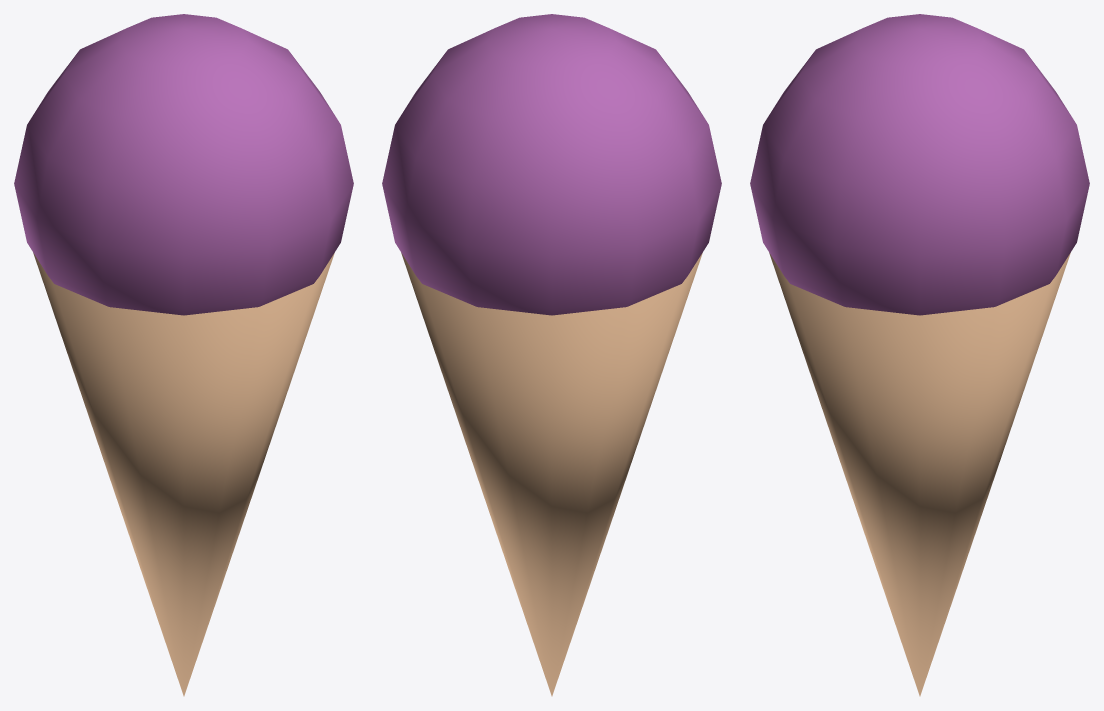
The model's file is food_ice_cream.glb.
3 views of the same model, side by side, from view 1: azimuth 30°, elevation 25°; view 2: azimuth 150°, elevation 25°; view 3: azimuth 270°, elevation 25° (orthographic).
Parts seen in each view (by area): view 1: food_ice_cream_scoop, food_ice_cream; view 2: food_ice_cream_scoop, food_ice_cream; view 3: food_ice_cream_scoop, food_ice_cream.
Boxes of the visible parts, x1=… form: food_ice_cream_scoop: x1=14, y1=14, x2=353, y2=315; food_ice_cream: x1=33, y1=253, x2=334, y2=696; food_ice_cream_scoop: x1=382, y1=14, x2=721, y2=315; food_ice_cream: x1=401, y1=253, x2=702, y2=696; food_ice_cream_scoop: x1=750, y1=14, x2=1089, y2=315; food_ice_cream: x1=769, y1=253, x2=1070, y2=696.
Size of the model in its own units: 0.09 by 0.195 by 0.09.
